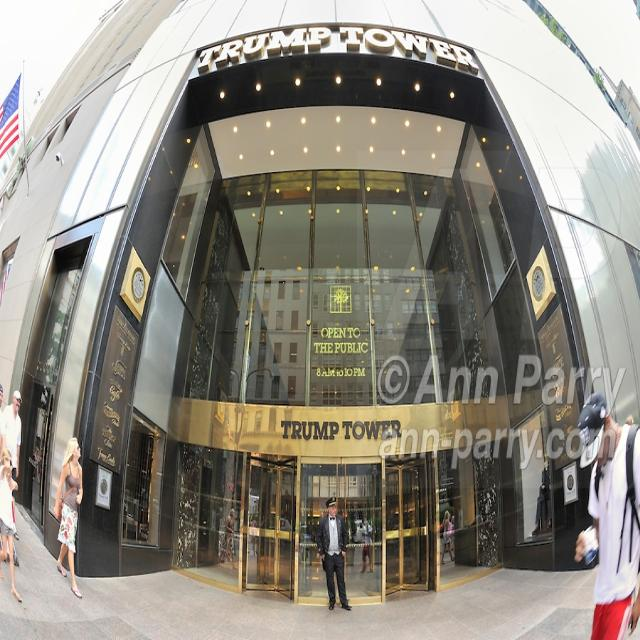body: (571, 390, 639, 639), (206, 488, 294, 575), (351, 506, 460, 568), (50, 434, 84, 601), (315, 495, 353, 614), (0, 444, 25, 609), (1, 389, 24, 541), (621, 409, 636, 426), (0, 378, 4, 440)
